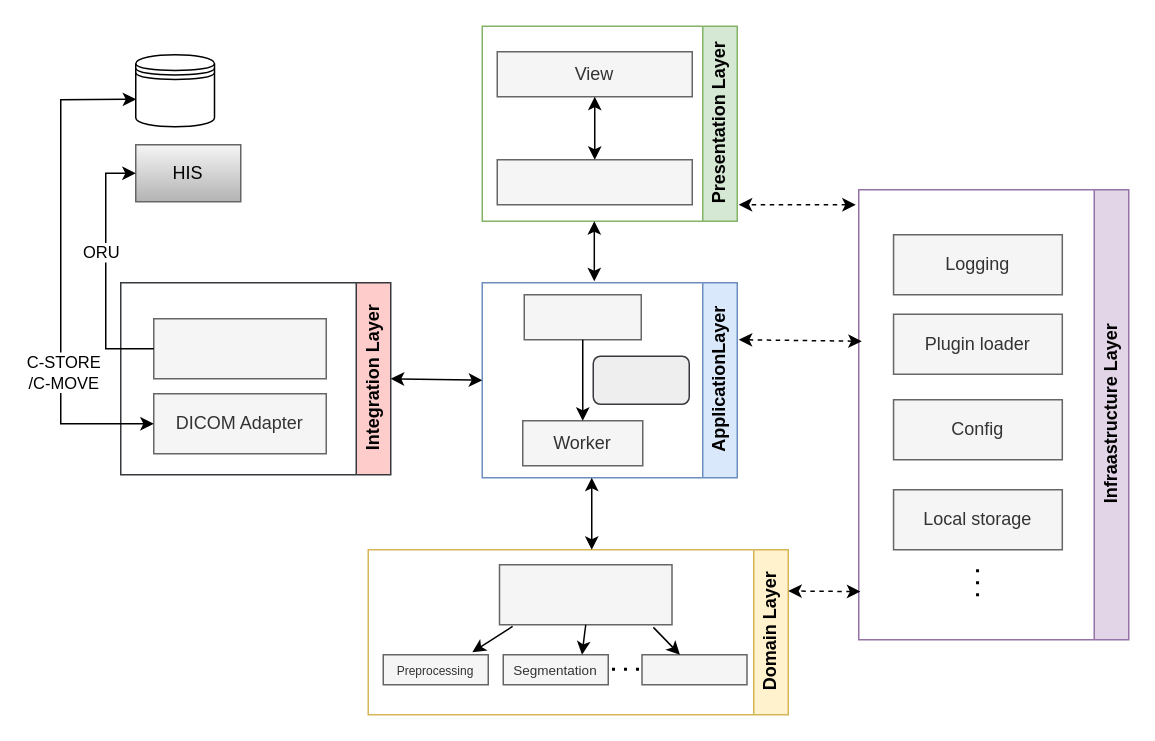
Some shapes in this 1155 by 741 pixel diagram are drawn without their labels. The centre of each missing label's shape, as x and y in pixels:
Core API: the point at 585,594
HL7 Adapter: the point at 239,348
PACS: the point at 174,90
Plugin manager: the point at 640,379
Results: the point at 693,669
Scheduler: the point at 582,316
ViewModel: the point at 594,181
